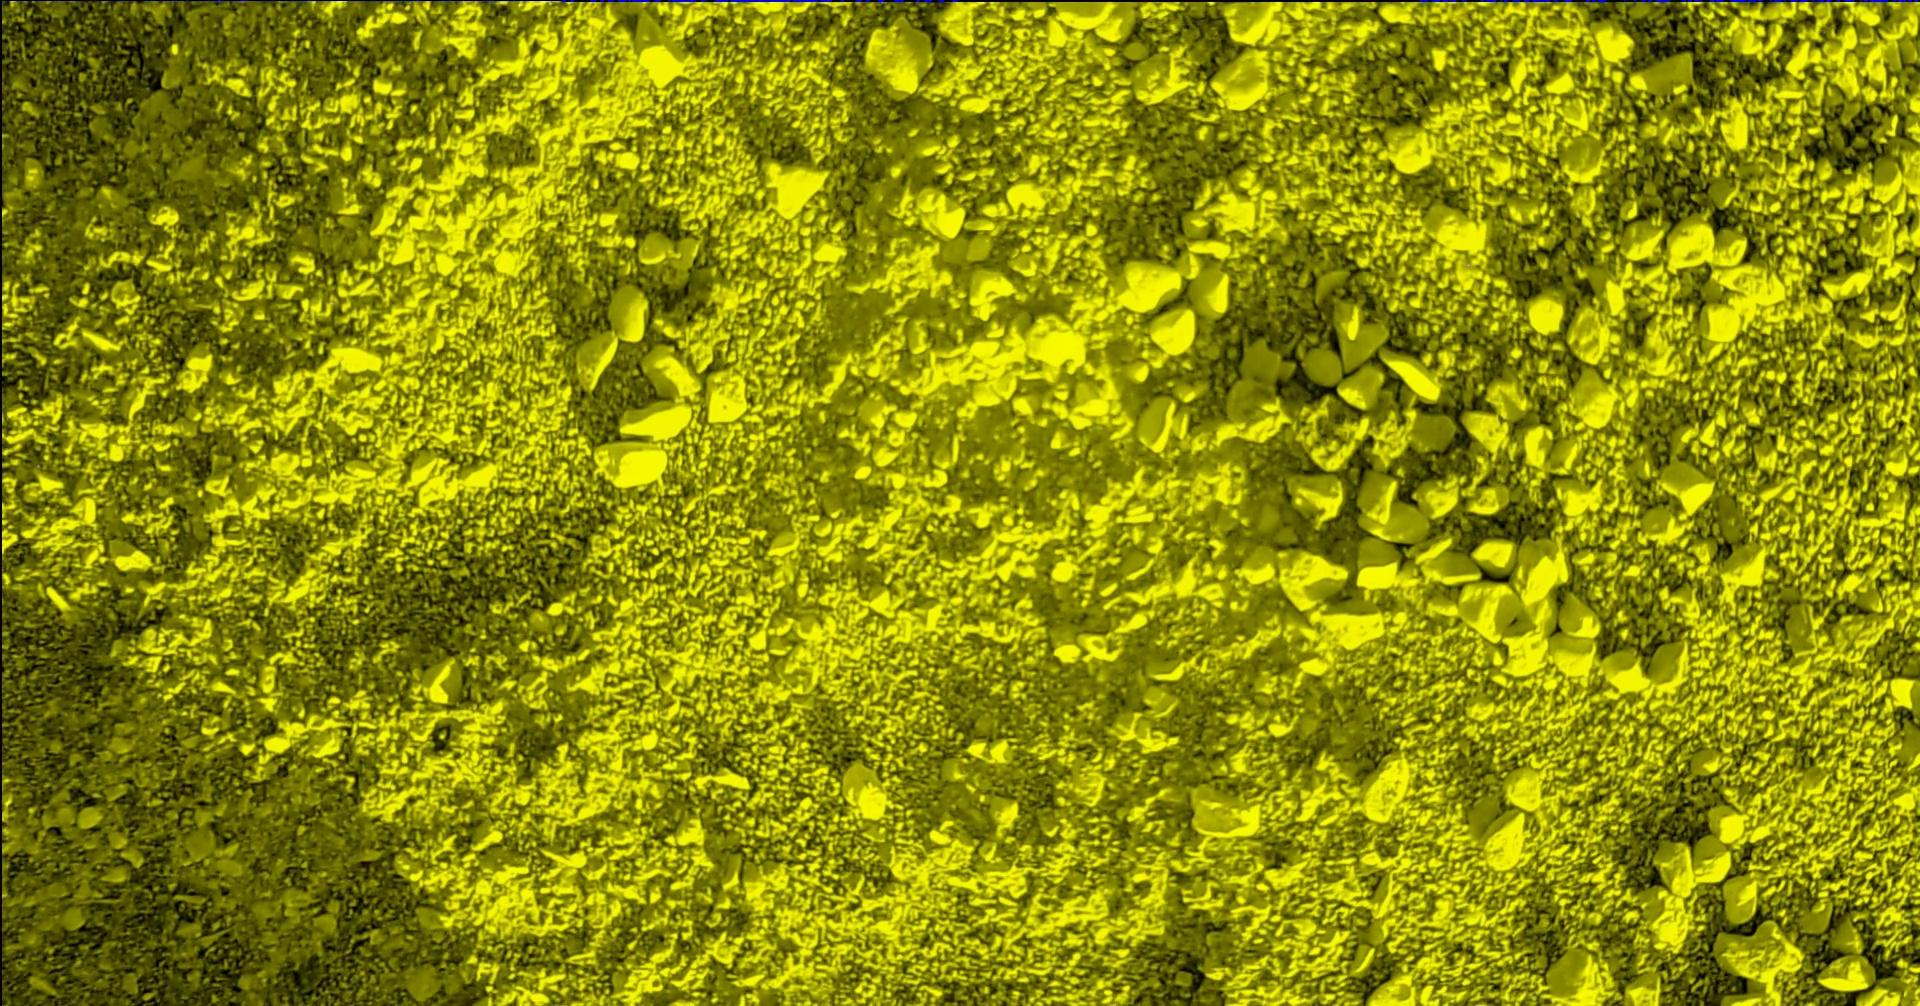ant: (145, 0, 310, 3), (1770, 0, 1920, 3), (714, 0, 834, 3), (1481, 0, 1575, 3), (590, 0, 662, 3), (1710, 0, 1764, 3), (349, 0, 424, 1)
